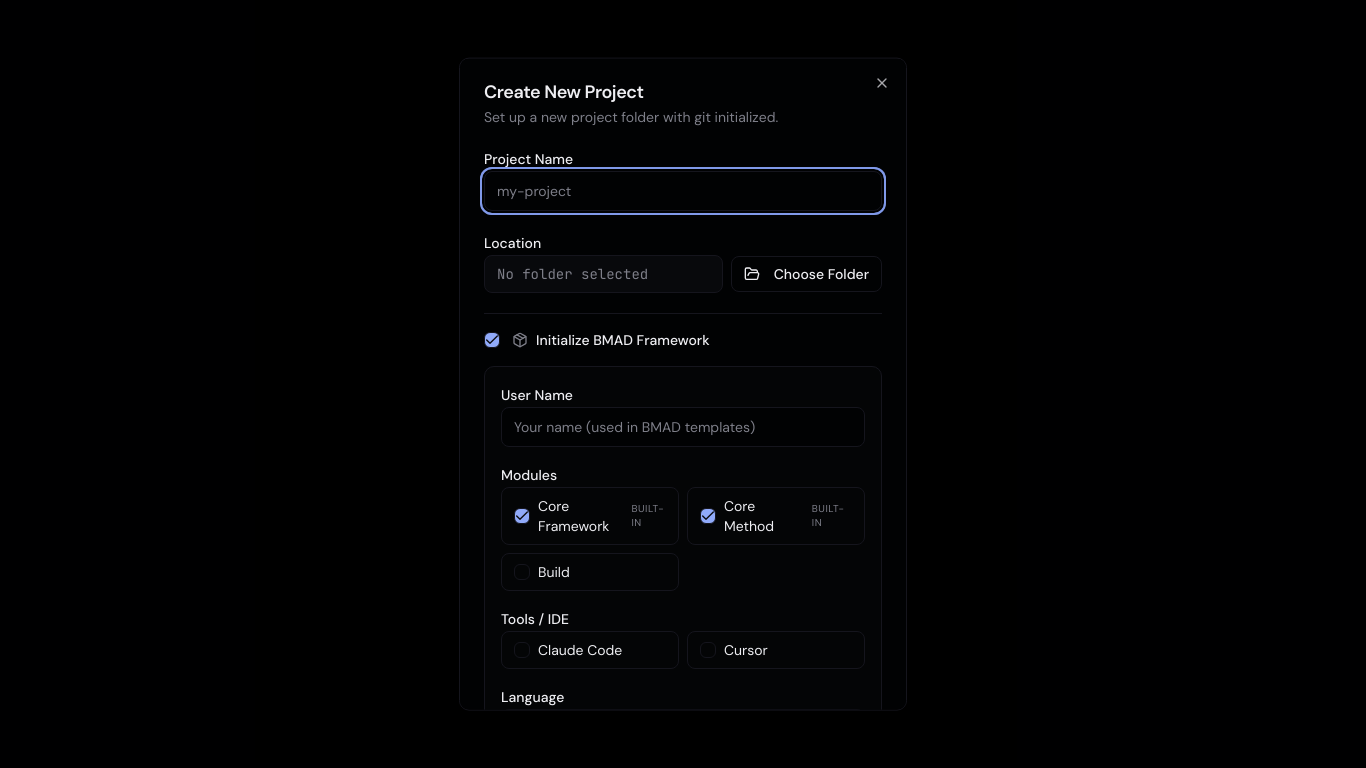
Test: NewProjectDialog › should show inline error on mutation failure
# Fill in fields first
Type "test-project" into the field with placeholder "my-project" at (683, 191), box top-left (484, 171), bottom-right (882, 211)
(page scrolled)
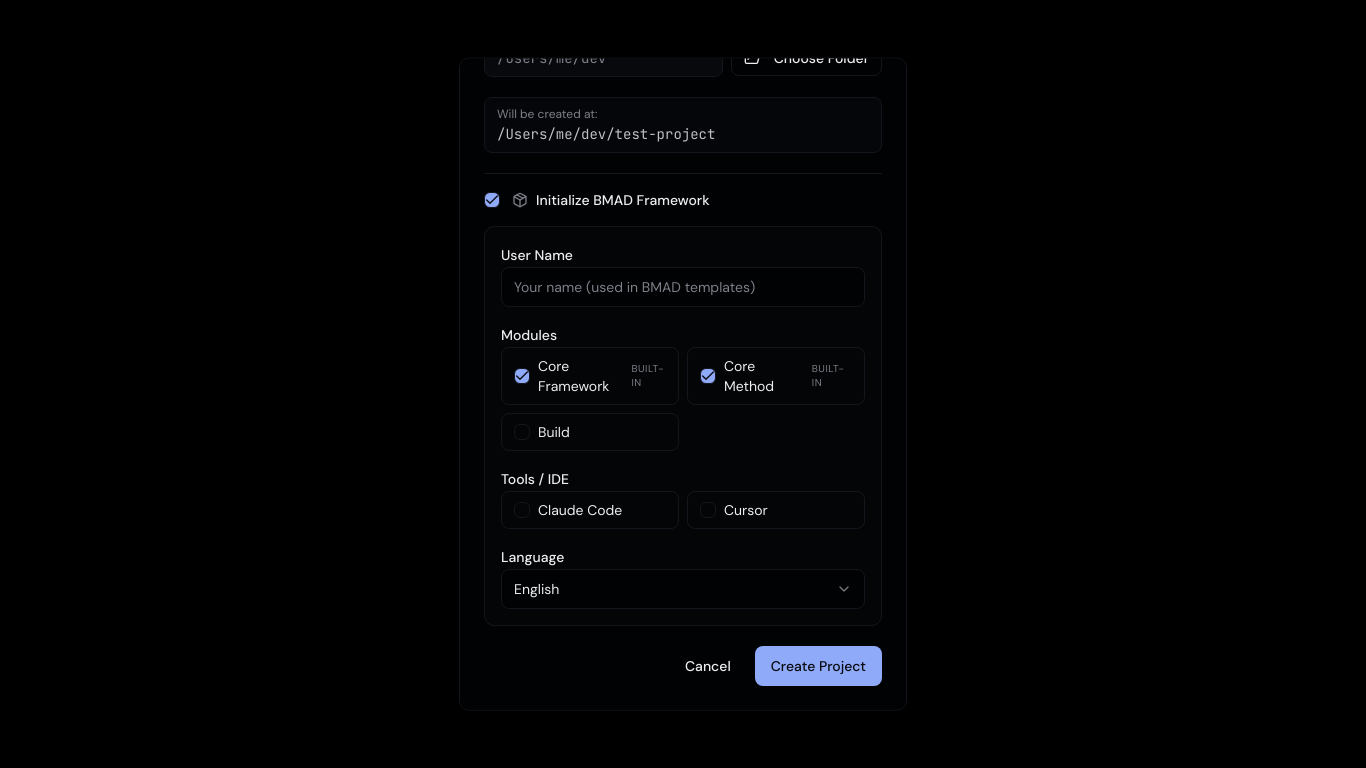
# Click create
Click the button "Create Project" at (818, 666), box top-left (755, 646), bottom-right (882, 686)
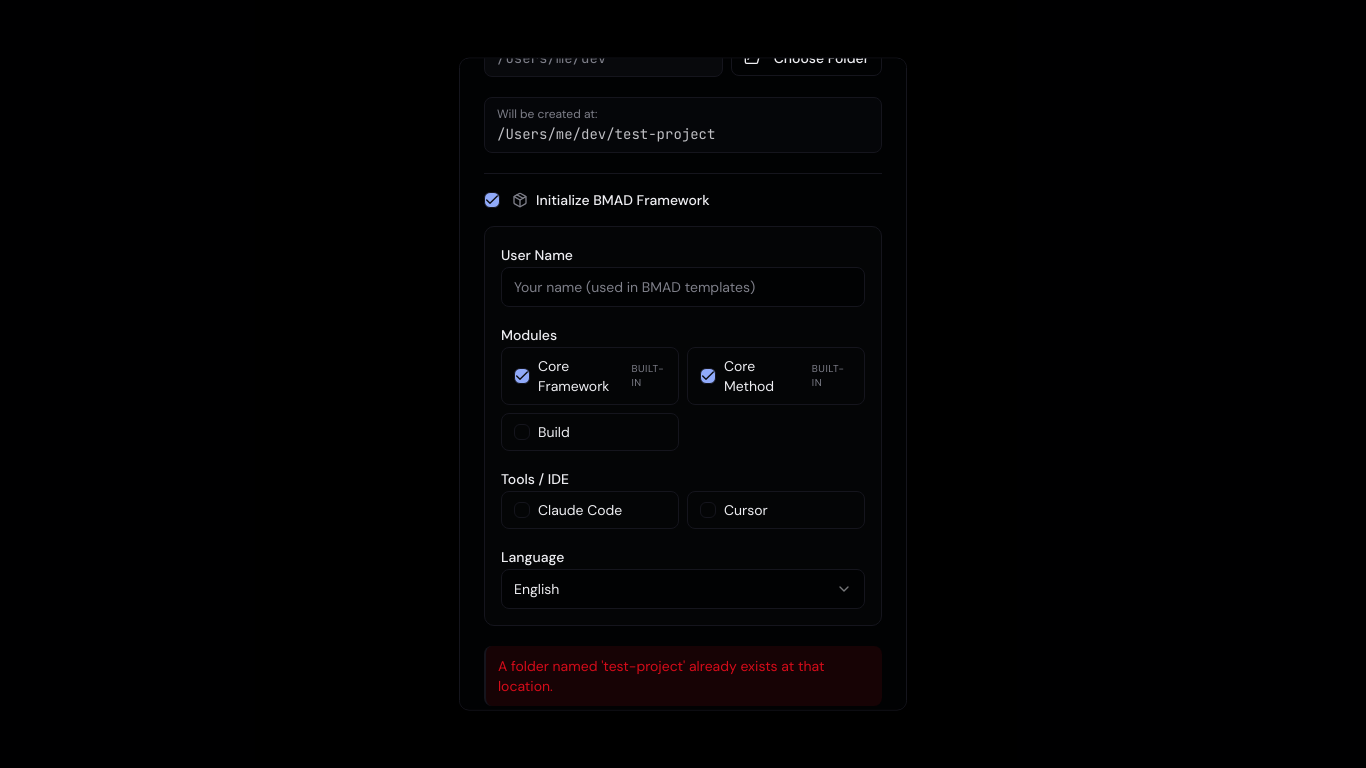
Now the text "already exists" is shown, box top-left (498, 657), bottom-right (824, 695)
